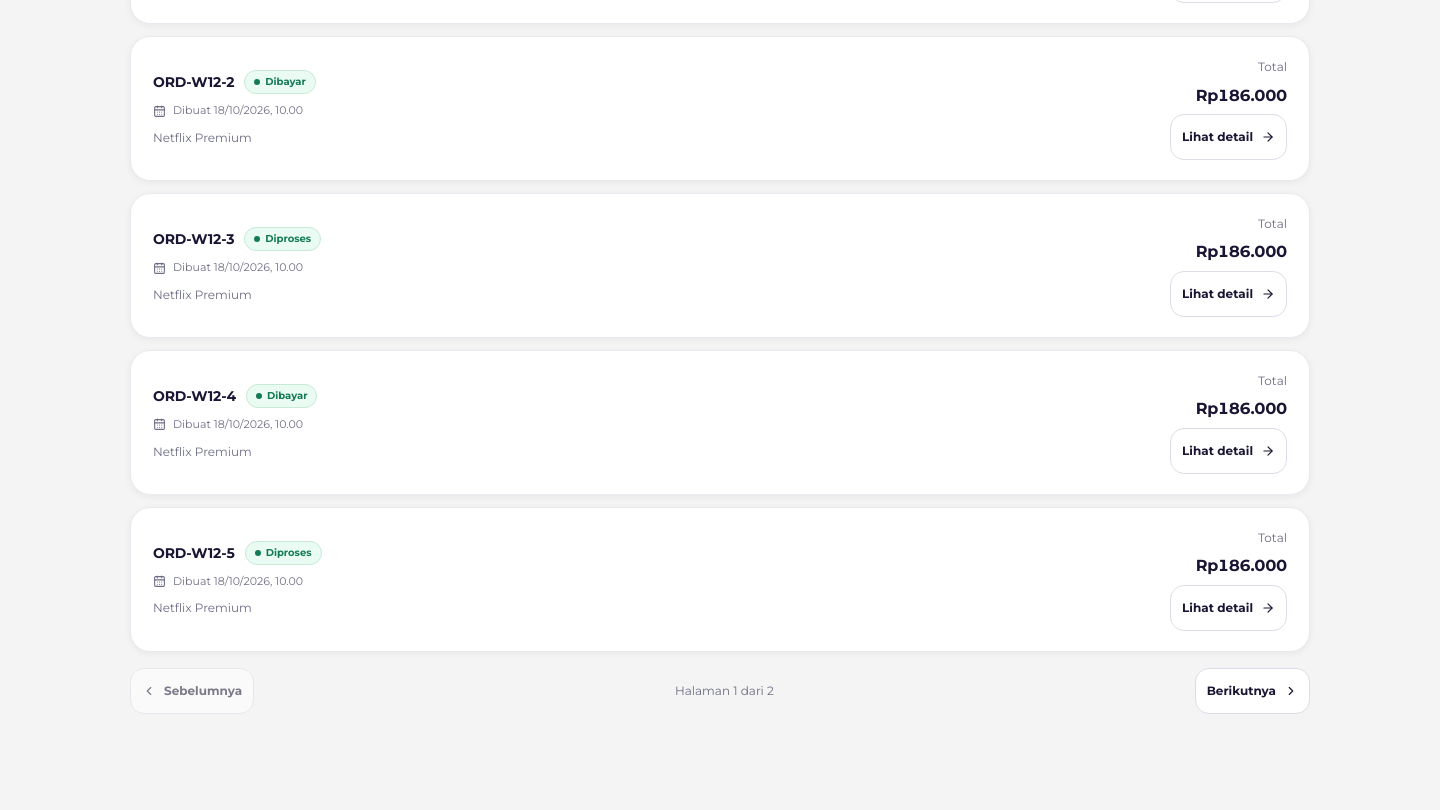
Test: riwayat pesanan pelanggan › kembali ke halaman terakhir saat total menyusut di tengah pagination
(page scrolled)
Click the button "Berikutnya". click: (1252, 690)
box: [1195,668,1310,714]
(page scrolled)
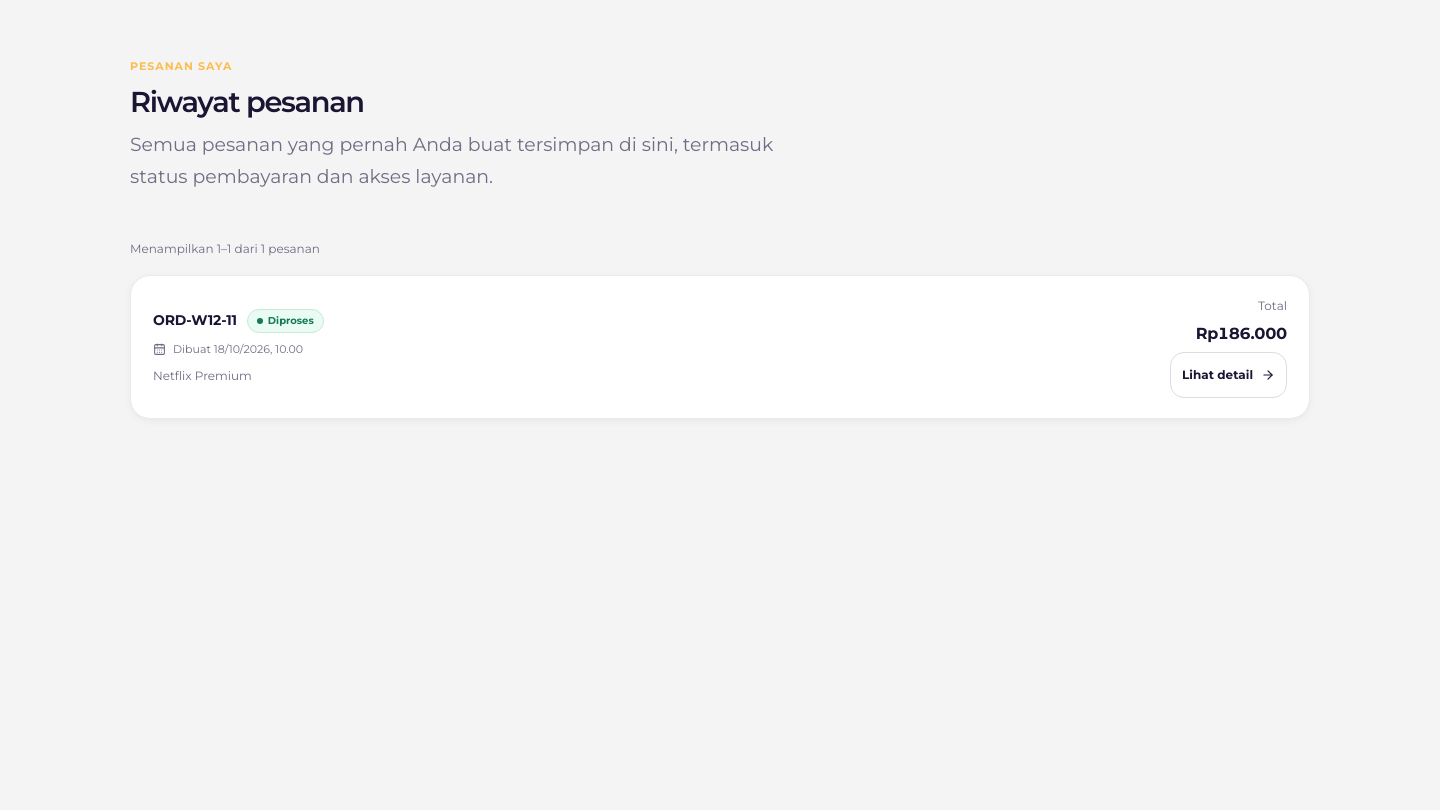
Expected: the text "ORD-W12-11" is shown, [153,309,237,332]
Expected: the text "Menampilkan 1–1 dari 1 pesanan" is shown, [130,240,320,259]
